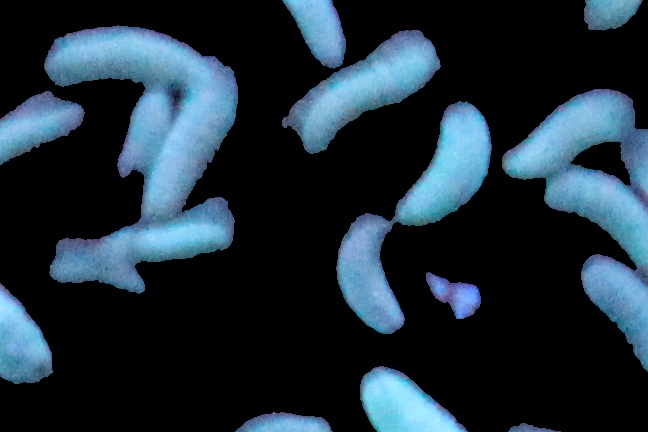larvae: (289, 31, 445, 154), (145, 62, 237, 221), (499, 87, 643, 169), (399, 96, 489, 227), (545, 158, 648, 270), (95, 196, 255, 267), (39, 29, 214, 83), (337, 210, 405, 333), (1, 94, 85, 190), (580, 252, 648, 369), (1, 265, 62, 390), (268, 1, 355, 65), (363, 366, 444, 432), (112, 90, 170, 181), (53, 252, 151, 298)
